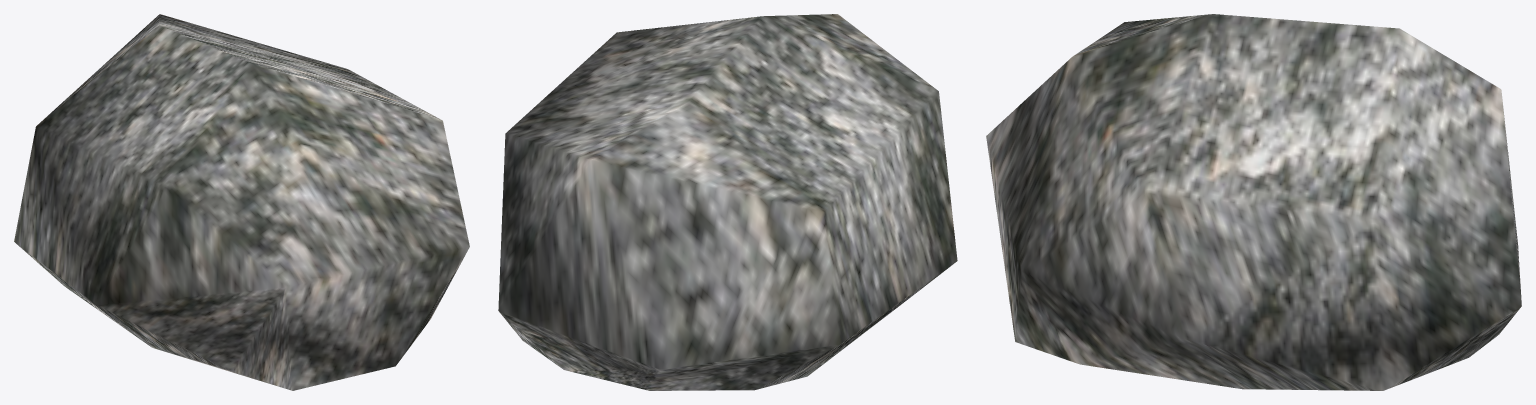
Rendered from stone12_tex2.fbx.
3 views of the same model, side by side, from view 1: azimuth 30°, elevation 25°; view 2: azimuth 150°, elevation 25°; view 3: azimuth 270°, elevation 25° (orthographic). The views are drawn at different scales.
Visible parts, largest first — view 1: stone12_tex2Object; view 2: stone12_tex2Object; view 3: stone12_tex2Object.
Boxes of the visible parts, x1=… form: stone12_tex2Object: x1=14, y1=14, x2=469, y2=390; stone12_tex2Object: x1=498, y1=14, x2=957, y2=390; stone12_tex2Object: x1=986, y1=14, x2=1521, y2=390.
Bounding box in the file's own units: 0.928 × 0.6586 × 1.08.
1 material, 1 textured.
